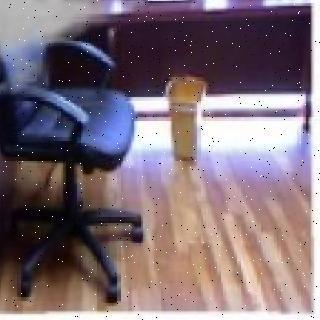smoke: (0, 0, 124, 65)
